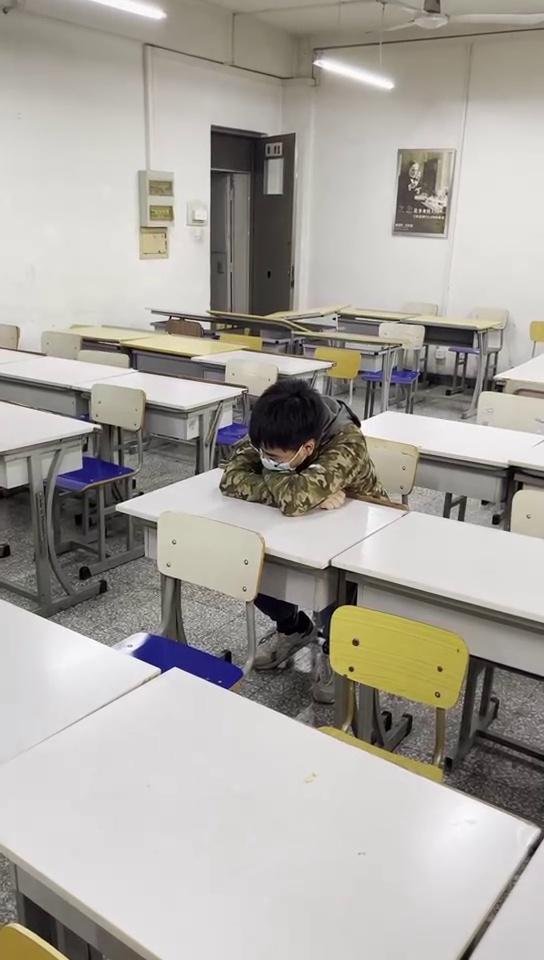sleep: (221, 382, 387, 516)
